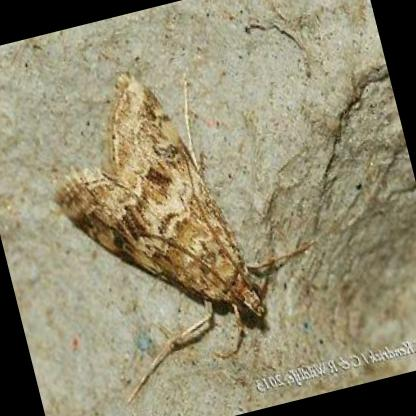Hellula undalis: (51, 67, 344, 403)
